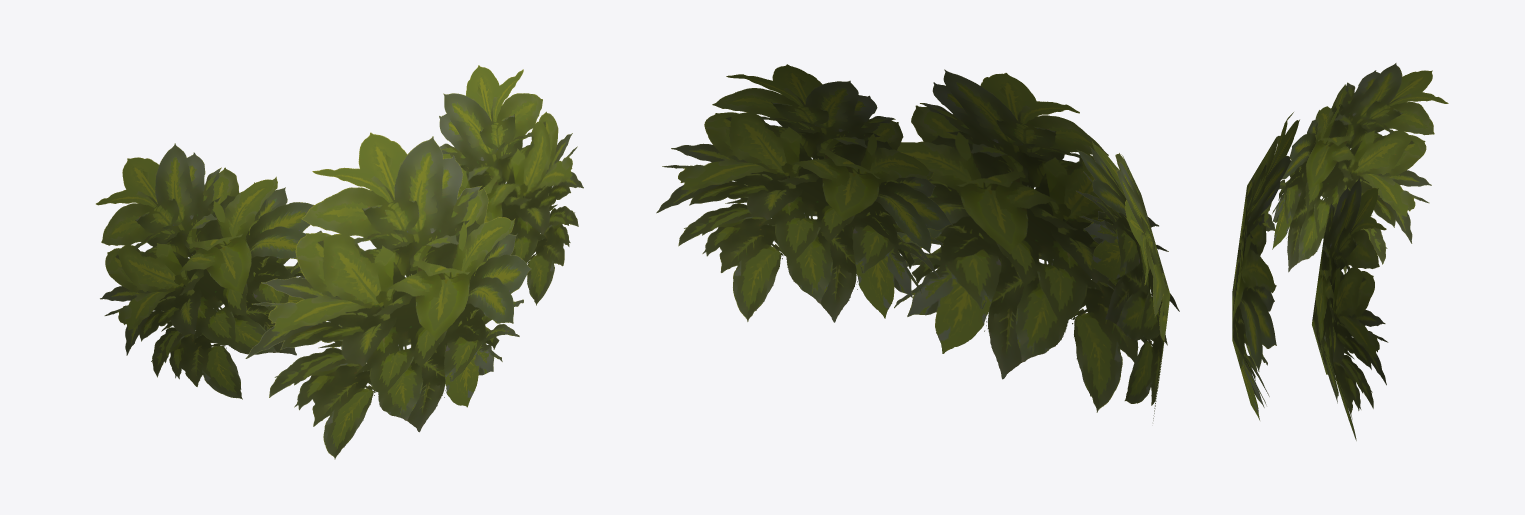
Rendered from SM_Env_PlantGroup01.fbx.
3 views of the same model, side by side, from view 1: azimuth 30°, elevation 25°; view 2: azimuth 150°, elevation 25°; view 3: azimuth 270°, elevation 25° (orthographic). The views are drawn at different scales.
Parts seen in each view (by area): view 1: SM_Env_PlantGroup01; view 2: SM_Env_PlantGroup01; view 3: SM_Env_PlantGroup01.
Boxes of the visible parts, x1,y1,x2,y2 form: SM_Env_PlantGroup01: (96,65,583,459); SM_Env_PlantGroup01: (656,64,1179,420); SM_Env_PlantGroup01: (1232,63,1448,440).
Size of the model in its own units: 0.9949 by 0.7006 by 0.4848.
1 material, 1 textured.
